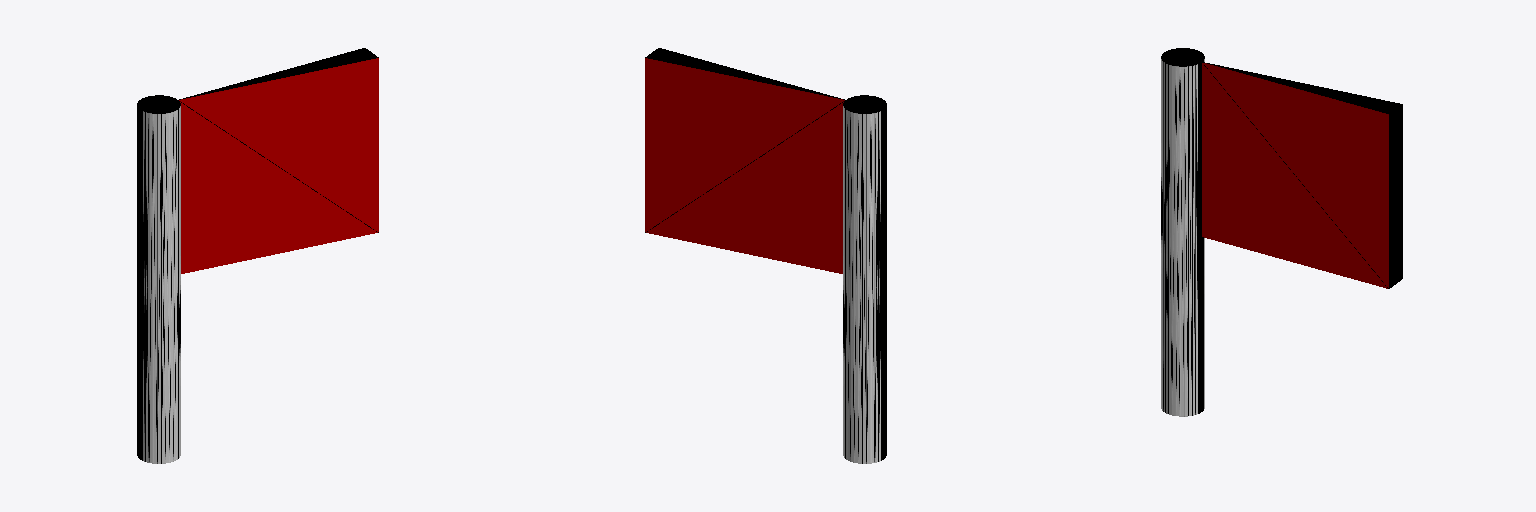
3 renders of one model, left to right at view 1: azimuth 30°, elevation 25°; view 2: azimuth 150°, elevation 25°; view 3: azimuth 330°, elevation 25°, orthographic.
Parts seen in each view (by area): view 1: Cylinder; view 2: Cylinder; view 3: Cylinder.
Part boxes in pixels (left/top/right/bottom): Cylinder: left=137, top=48, right=378, bottom=463; Cylinder: left=645, top=48, right=886, bottom=463; Cylinder: left=1161, top=48, right=1402, bottom=416.
Size of the model in its own units: 0.6739 by 0.9729 by 0.11.
2 materials, 1 textured.